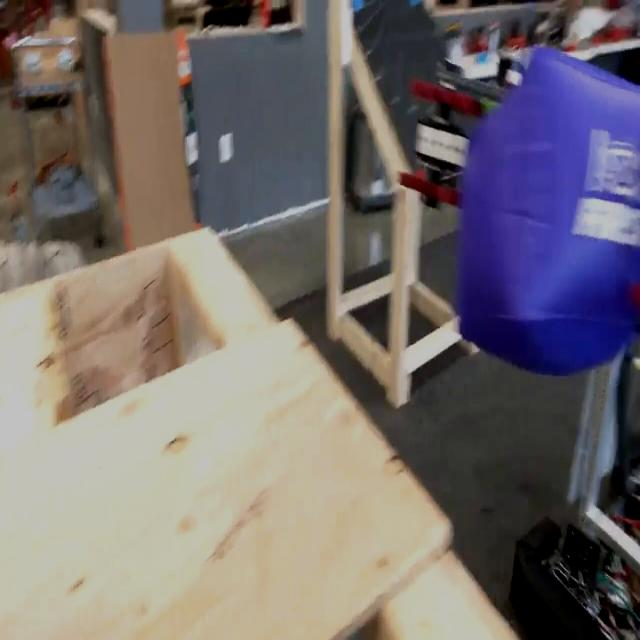frc_cube: (464, 55, 640, 374)
